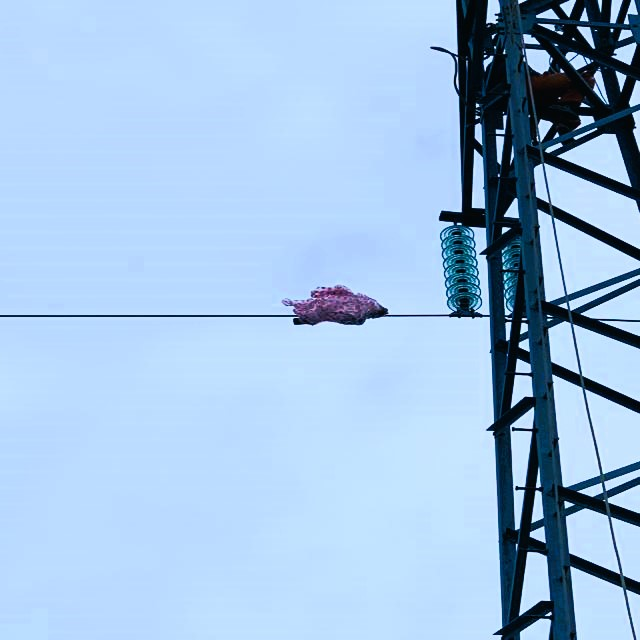wire foreign body: (277, 273, 394, 346)
